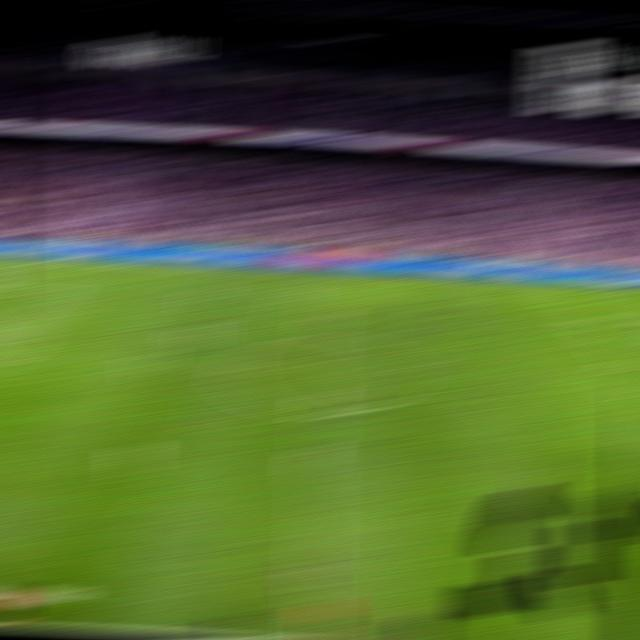bigarea_top_inner: (573, 313, 601, 322)
halfcircle_bottom: (304, 408, 335, 421)
halfcircle_top: (306, 329, 336, 342)
midline_bottom_intersection: (292, 628, 328, 638)
midline_top_intersection: (309, 268, 337, 276)
top_arc_area_intersection: (2, 320, 30, 330)
